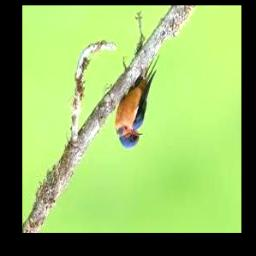Swallow: (115, 52, 159, 148)
